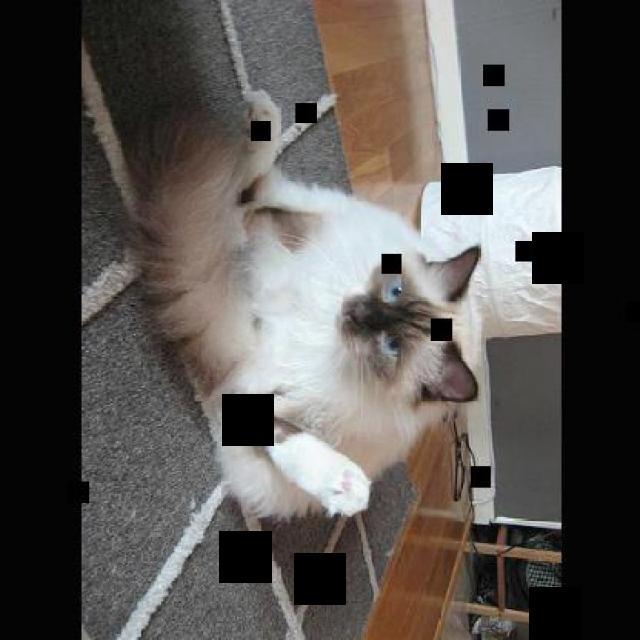unauthorized: (80, 40, 482, 522)
